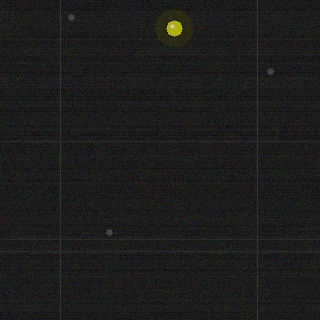yellow_warning: (164, 18, 184, 38)
